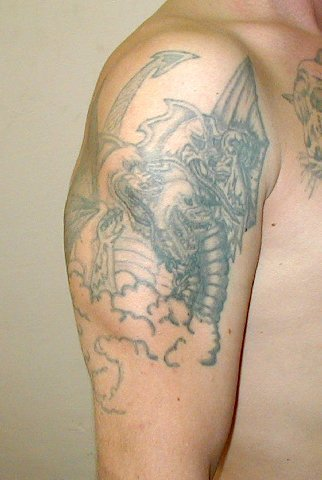tatu6_drakon: (56, 23, 282, 402)
